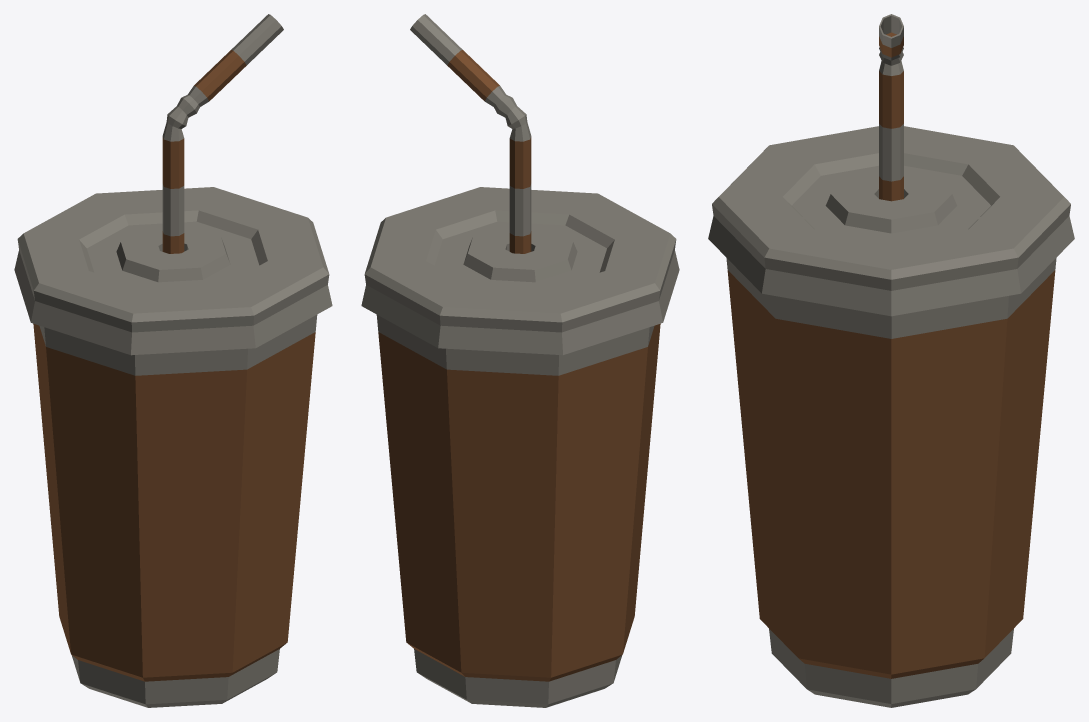
File: cc0-soda-lod0.glb
3 renders of one model, left to right at view 1: azimuth 30°, elevation 25°; view 2: azimuth 150°, elevation 25°; view 3: azimuth 270°, elevation 25°, orthographic. The views are drawn at different scales.
Visible parts, largest first — view 1: part_0; view 2: part_0; view 3: part_0.
Part boxes in pixels (x1,y1,x2,y2): part_0: (14, 14, 332, 707); part_0: (361, 14, 679, 707); part_0: (708, 14, 1074, 707).
Size of the model in its own units: 0.9118 by 1.92 by 0.9118.
